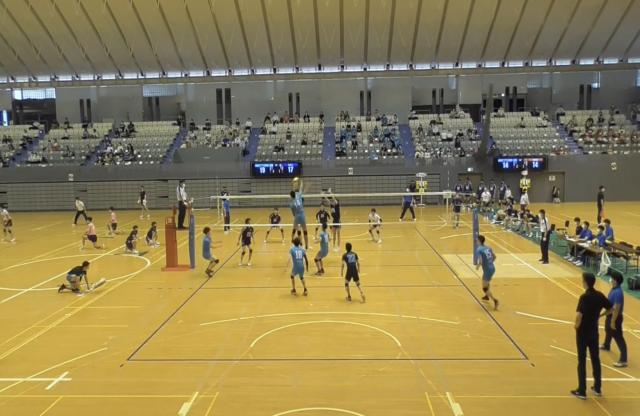spike: (285, 174, 313, 252)
